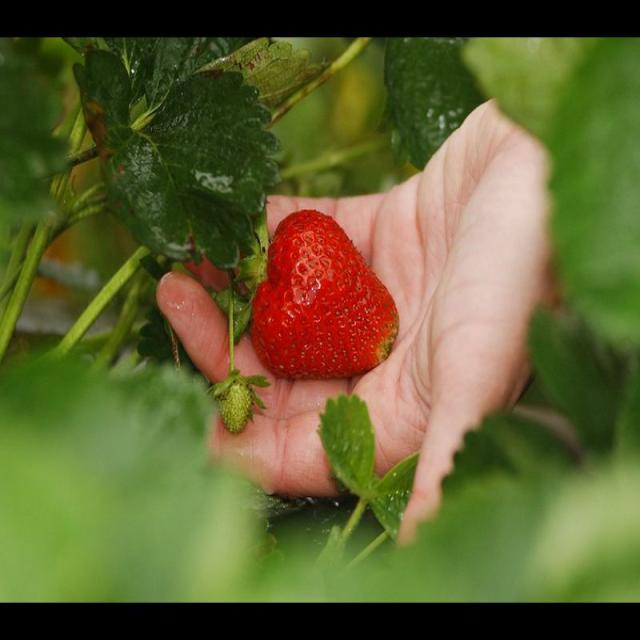strawberry: (216, 159, 404, 387)
